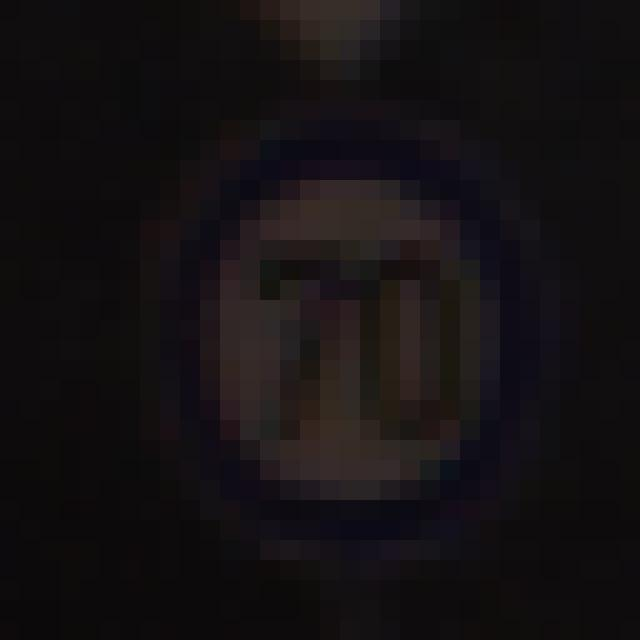SPEED LIMIT 70: (154, 149, 532, 544)
